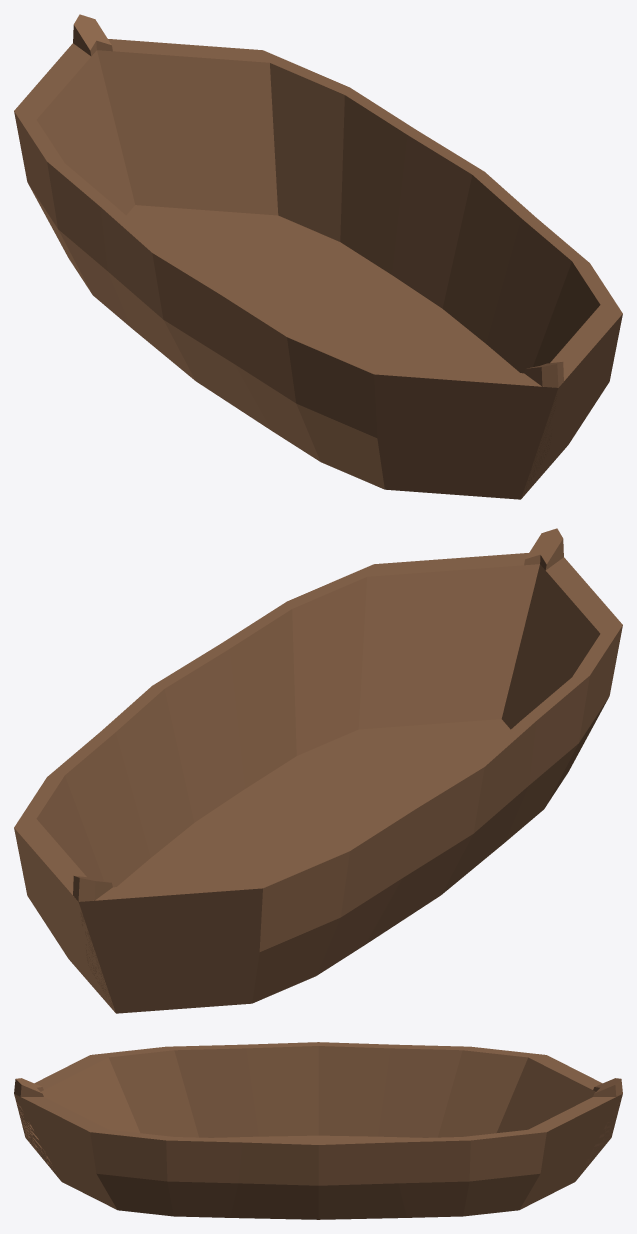
Rendered from Boat_1_Light_Brown.fbx.
The picture shows the model from 3 angles, top to bottom: view 1: azimuth 30°, elevation 25°; view 2: azimuth 150°, elevation 25°; view 3: azimuth 270°, elevation 25°; orthographic projection. The views are drawn at different scales.
Parts seen in each view (by area): view 1: Boat_1_Light_Brown; view 2: Boat_1_Light_Brown; view 3: Boat_1_Light_Brown.
Boxes of the visible parts, x1,y1,x2,y2 form: Boat_1_Light_Brown: (14, 14, 622, 499); Boat_1_Light_Brown: (14, 528, 622, 1013); Boat_1_Light_Brown: (14, 1042, 622, 1219).
Size of the model in its own units: 220 by 103 by 550.
